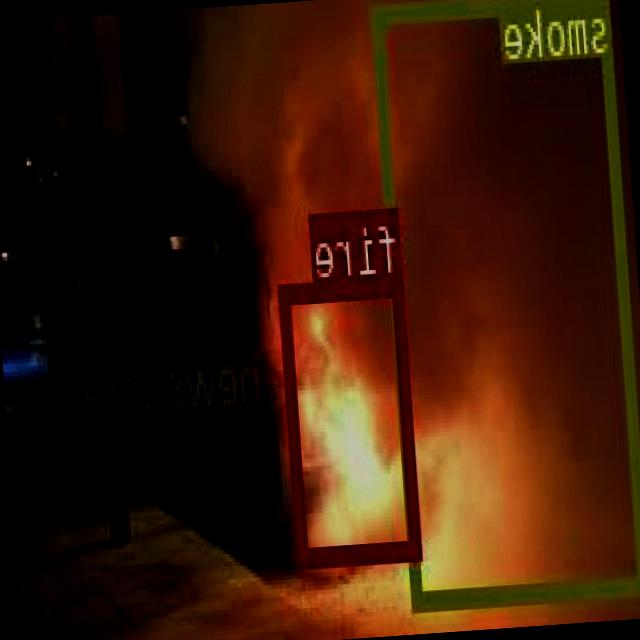fire: (280, 272, 422, 562)
smoke: (373, 0, 640, 606)
